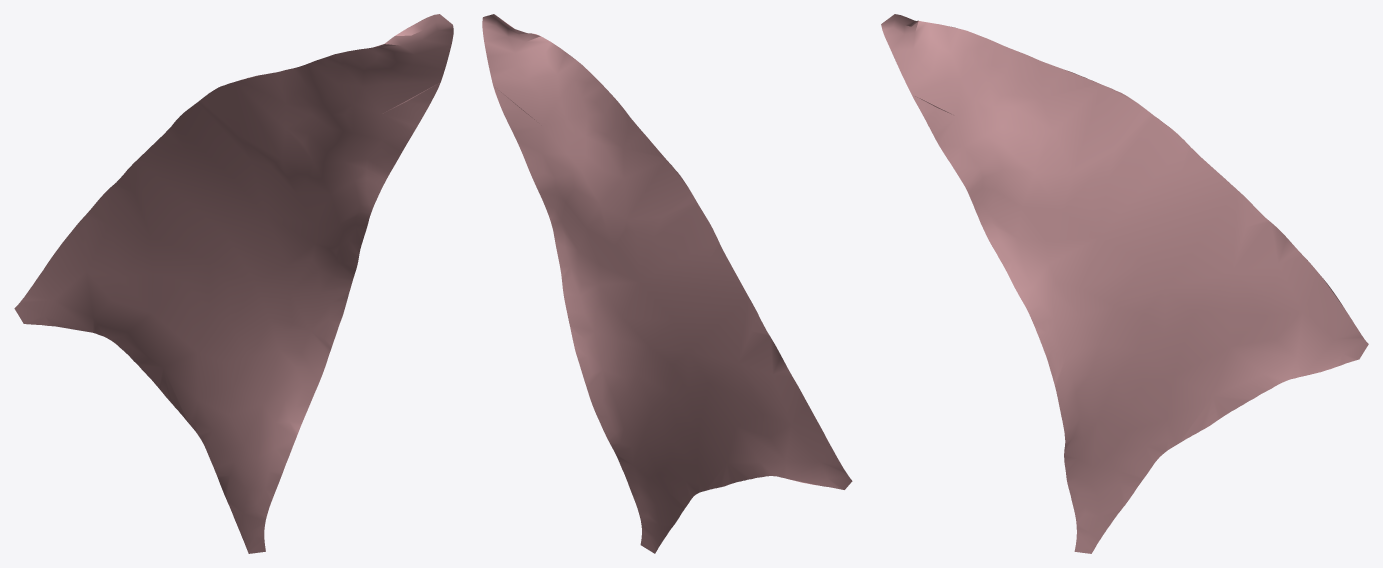
The model's file is fma77435_mm609.glb.
The picture shows the model from 3 angles, left to right: view 1: azimuth 30°, elevation 25°; view 2: azimuth 210°, elevation 25°; view 3: azimuth 270°, elevation 25°; orthographic projection. The views are drawn at different scales.
Visible parts, largest first — view 1: FMA77435_MM609; view 2: FMA77435_MM609; view 3: FMA77435_MM609.
Part boxes in pixels (bbox=[...]): FMA77435_MM609: bbox=[14, 14, 453, 553]; FMA77435_MM609: bbox=[482, 14, 852, 553]; FMA77435_MM609: bbox=[881, 14, 1368, 553].
Size of the model in its own units: 0.0051 by 0.0147 by 0.0111.
